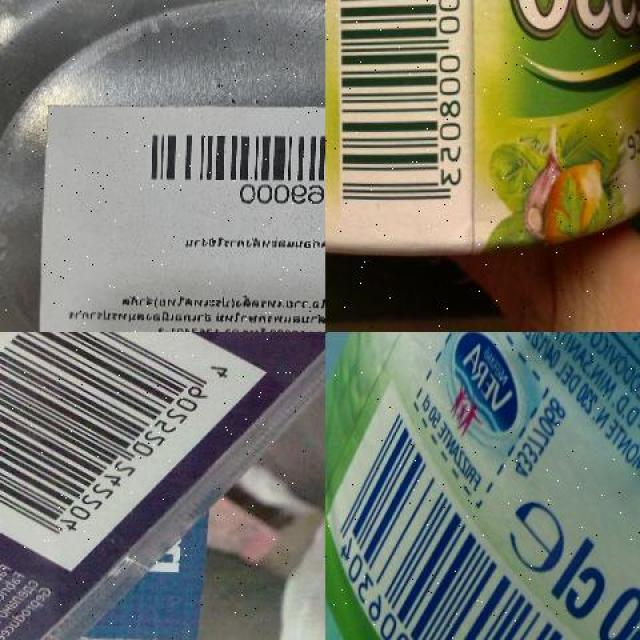Barcode: (325, 374, 630, 640), (0, 332, 267, 573), (334, 0, 466, 251), (117, 117, 326, 212)
